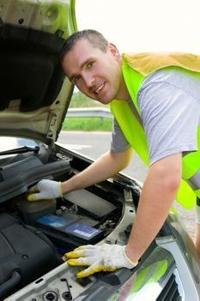person: (27, 27, 200, 276)
